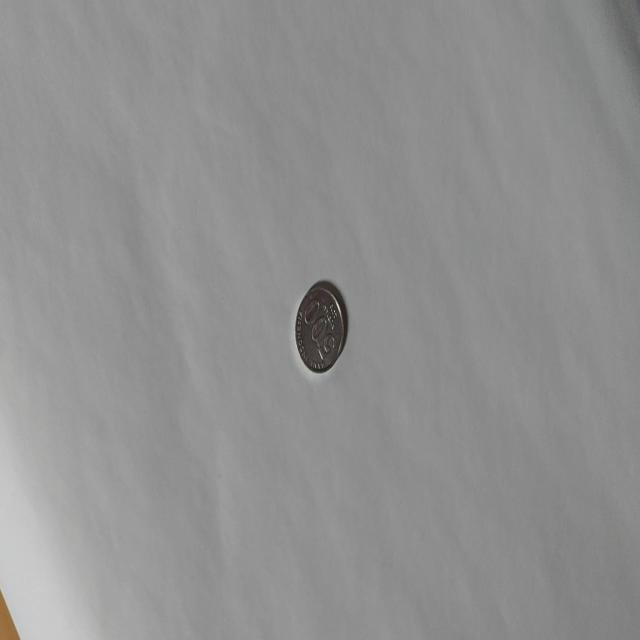lima ratus rupiah: (294, 280, 346, 374)
